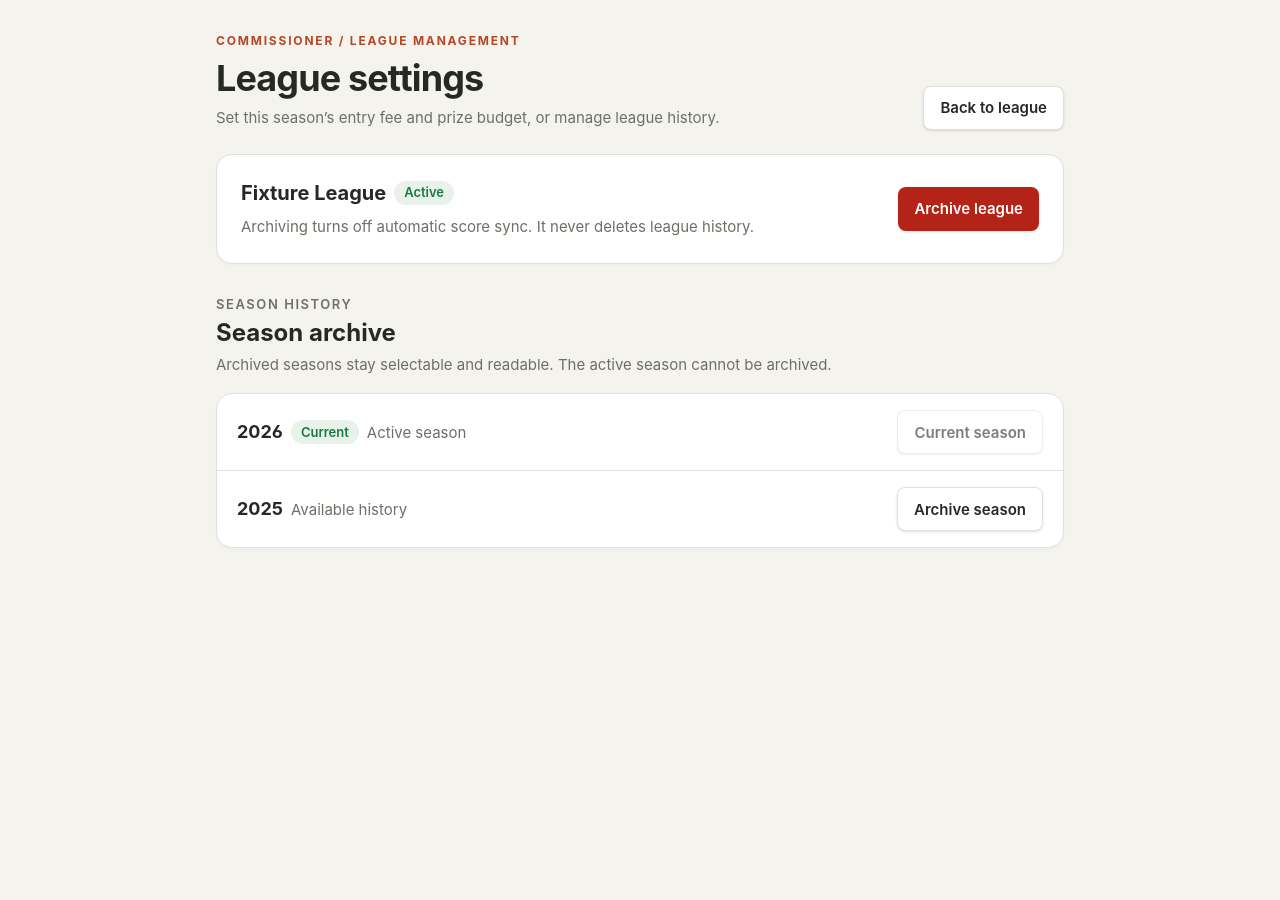
Test case: LeagueSettingsPage › protects the active season and confirms reversible historical archival
Expected: the button "Current season" is disabled, [898, 410, 1043, 454]
Click the button "Archive season" at (970, 509), box [897, 487, 1043, 531]
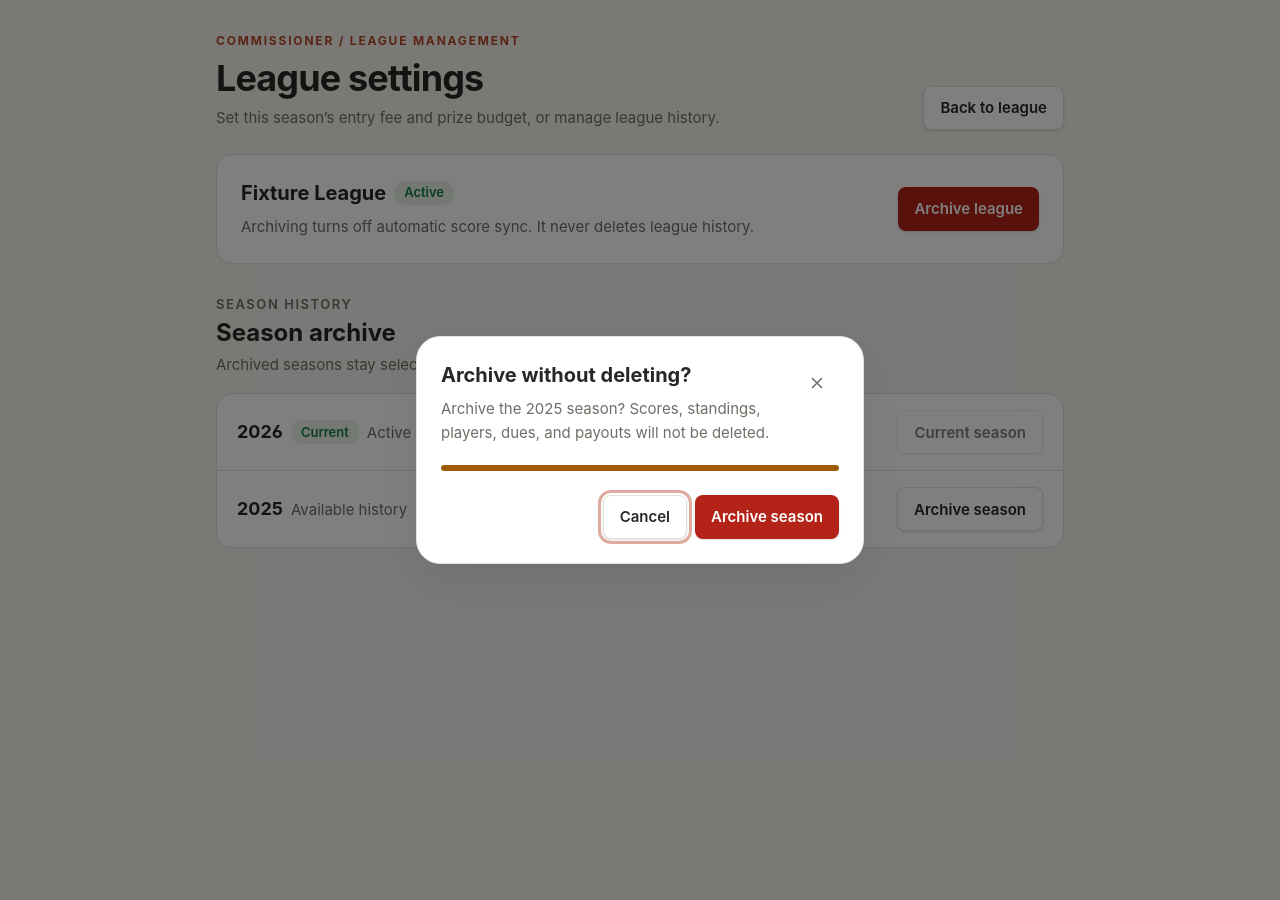
Click the button "Archive season" at (767, 517), box [695, 495, 839, 539]
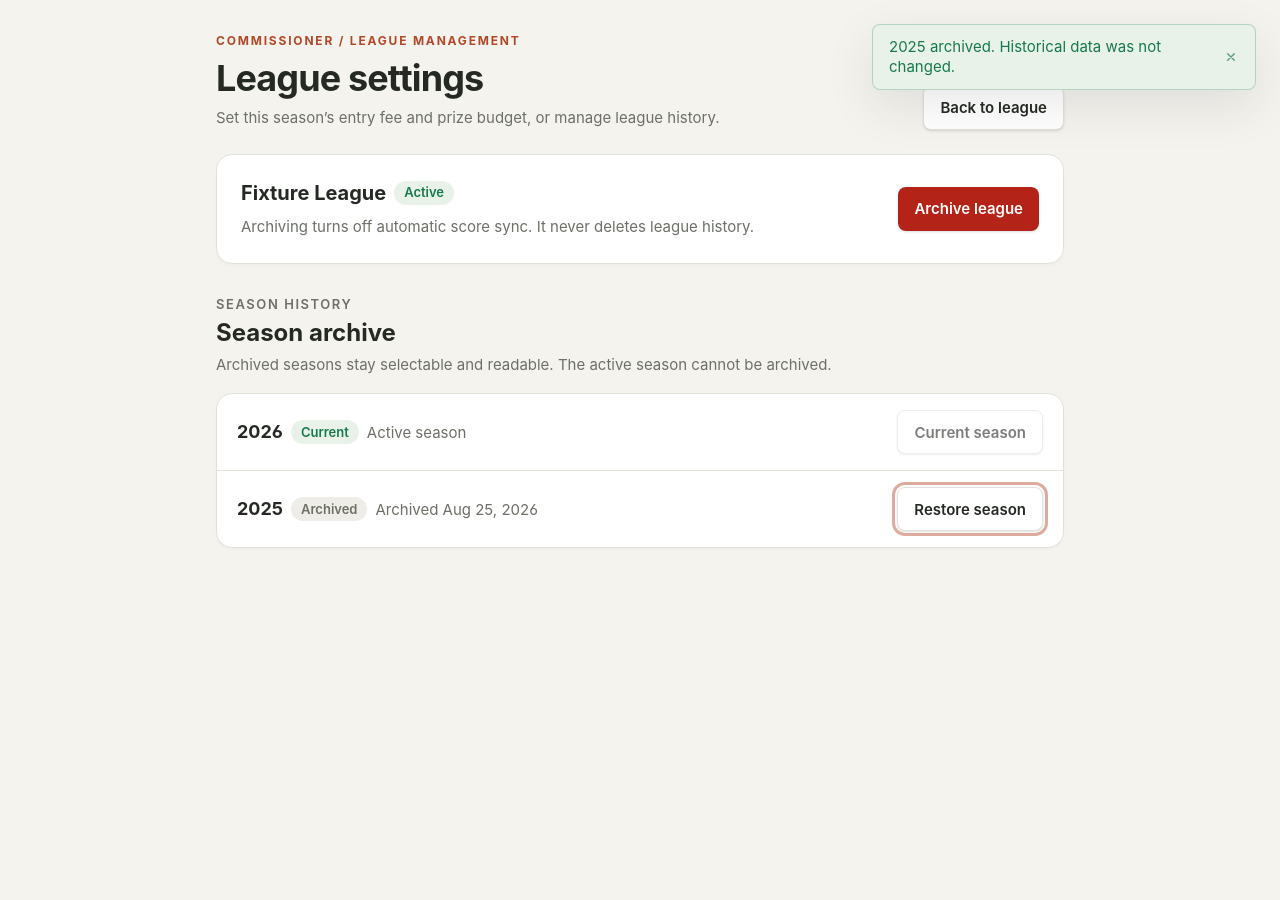
Expected: the text "2025 archived. Historical data was not changed." is shown, [889, 37, 1207, 77]
